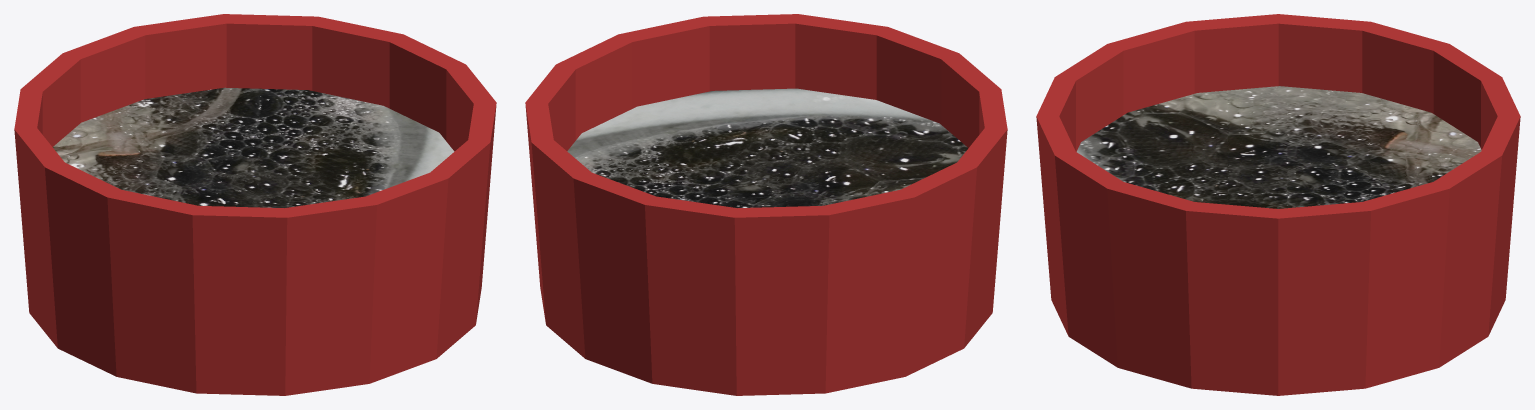
The model's file is fish4-2.glb.
The picture shows the model from 3 angles, left to right: view 1: azimuth 30°, elevation 25°; view 2: azimuth 150°, elevation 25°; view 3: azimuth 270°, elevation 25°; orthographic projection.
Parts seen in each view (by area): view 1: Cylinder; view 2: Cylinder; view 3: Cylinder.
Boxes of the visible parts, <box> form: Cylinder: <box>14,14,496,395</box>; Cylinder: <box>525,14,1007,395</box>; Cylinder: <box>1036,14,1520,395</box>.
Bounding box in the file's own units: 2.25 × 0.9435 × 2.25.
2 materials, 1 textured.
